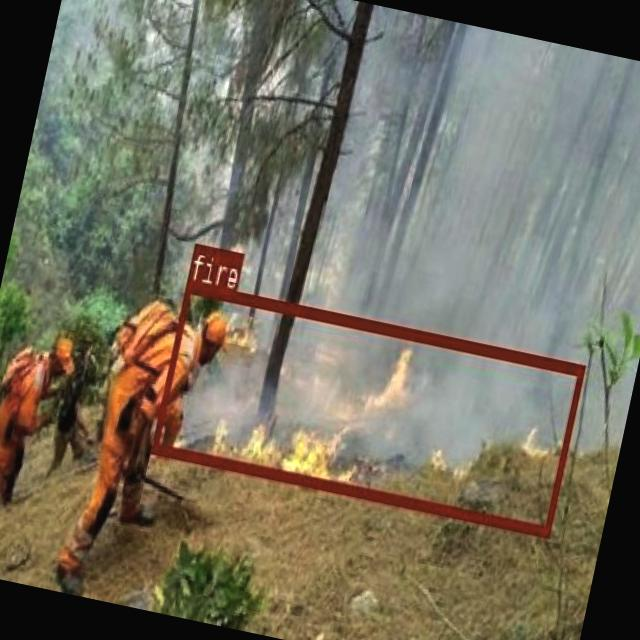fire: (151, 280, 584, 535)
